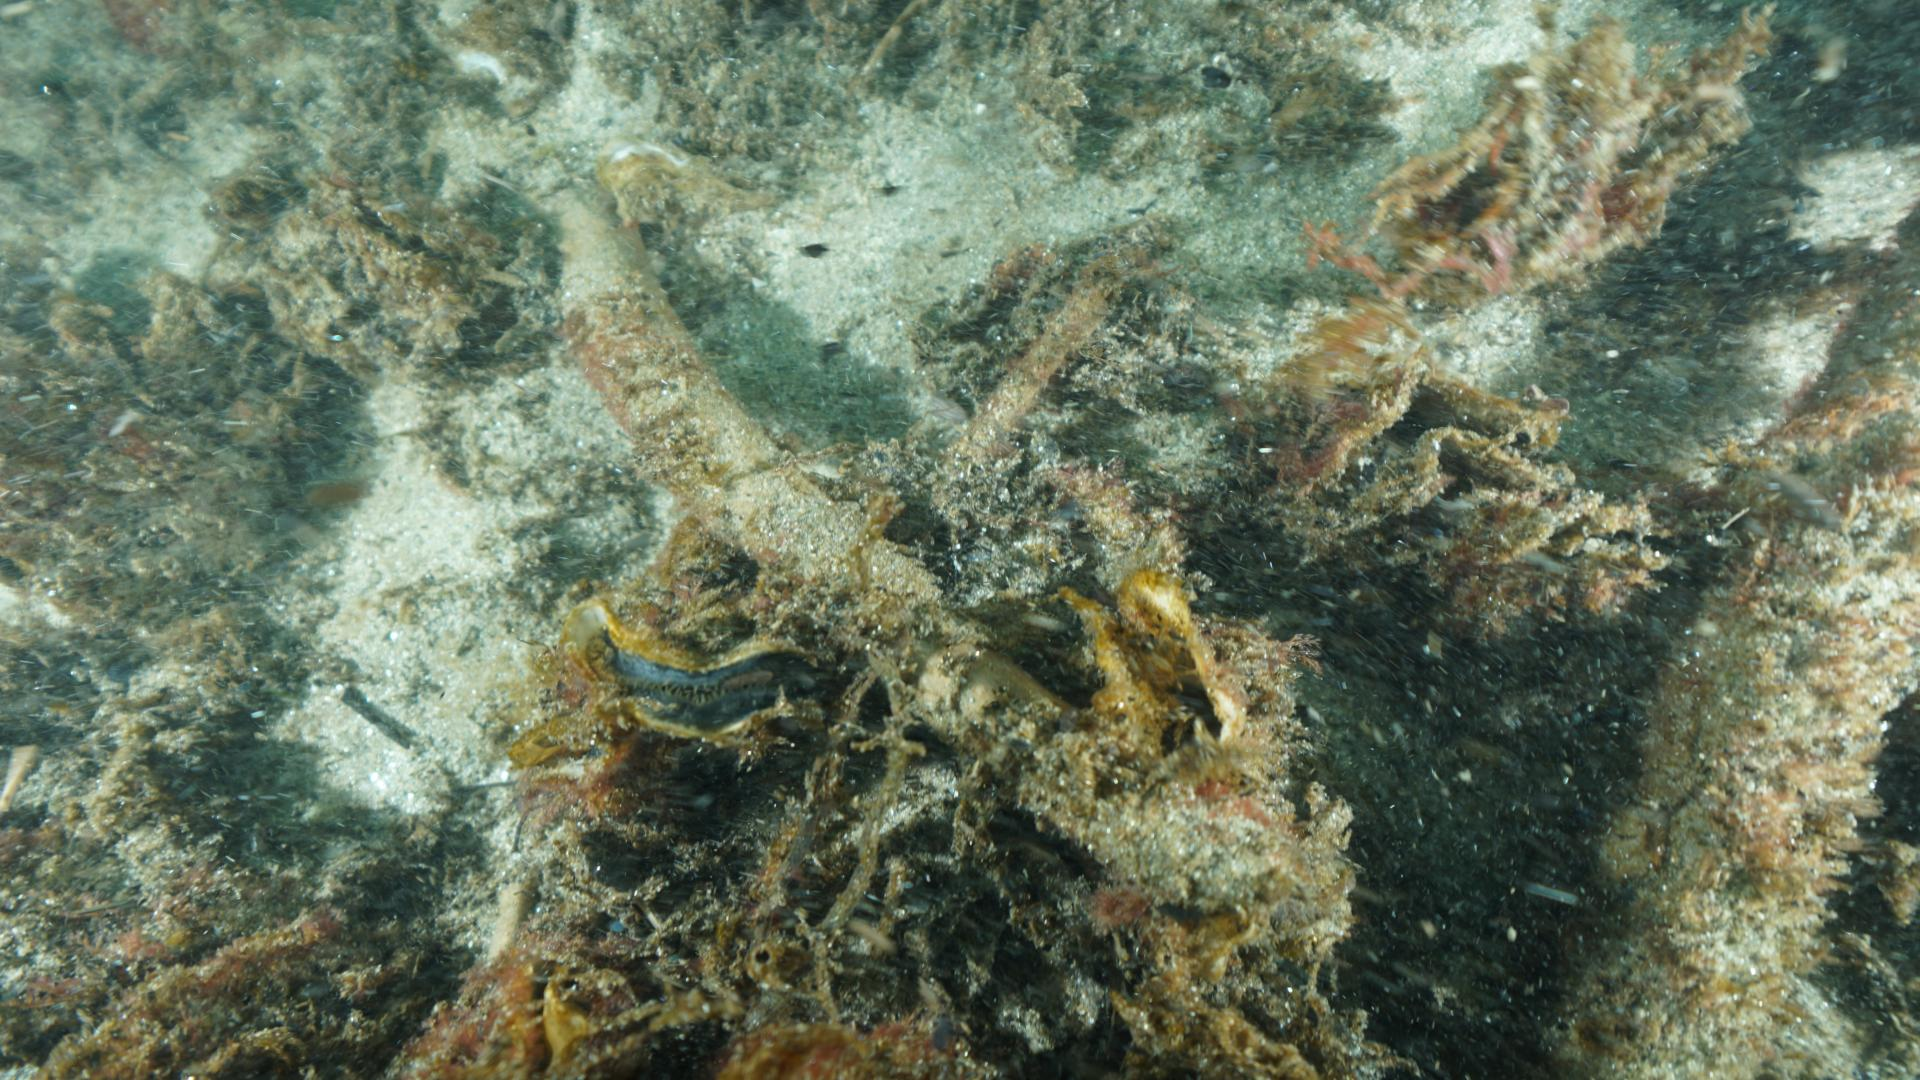rope: (551, 207, 1332, 967)
